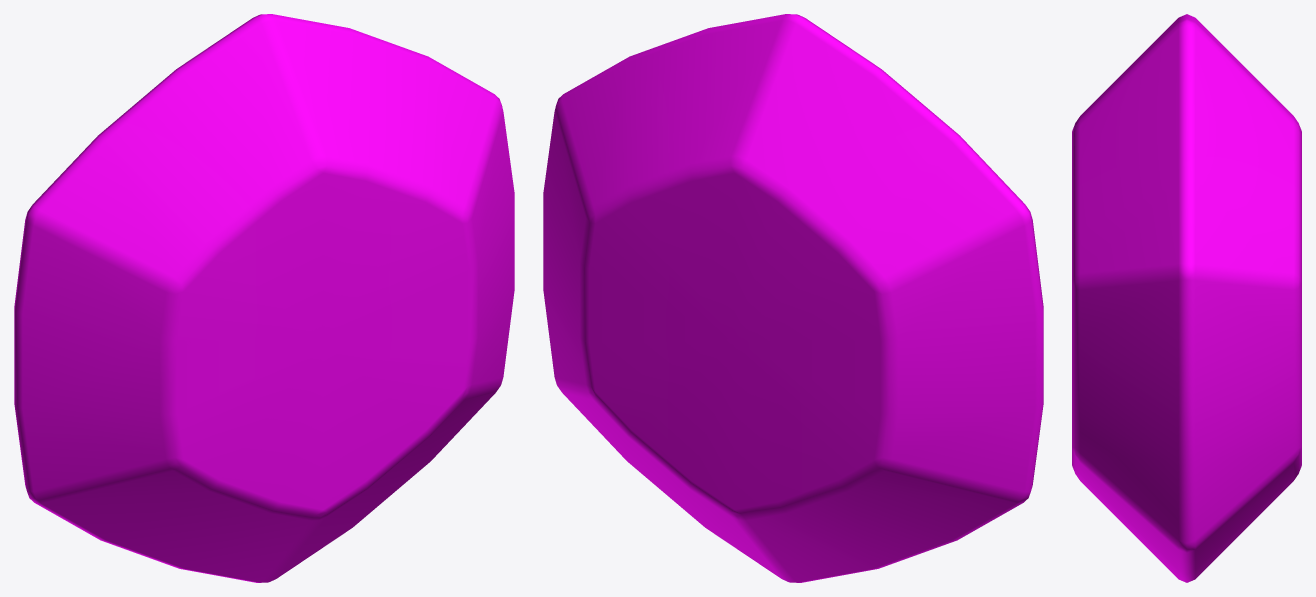
3 views of the same model, side by side, from view 1: azimuth 30°, elevation 25°; view 2: azimuth 150°, elevation 25°; view 3: azimuth 270°, elevation 25° (orthographic). The views are drawn at different scales.
Parts seen in each view (by area): view 1: model_0.102; view 2: model_0.102; view 3: model_0.102.
Part boxes in pixels (box(x1,y1,x2,y2)): model_0.102: box(14, 14, 514, 582); model_0.102: box(543, 14, 1043, 582); model_0.102: box(1072, 14, 1301, 582).
Size of the model in its own units: 3.29 by 3.59 by 1.35.
